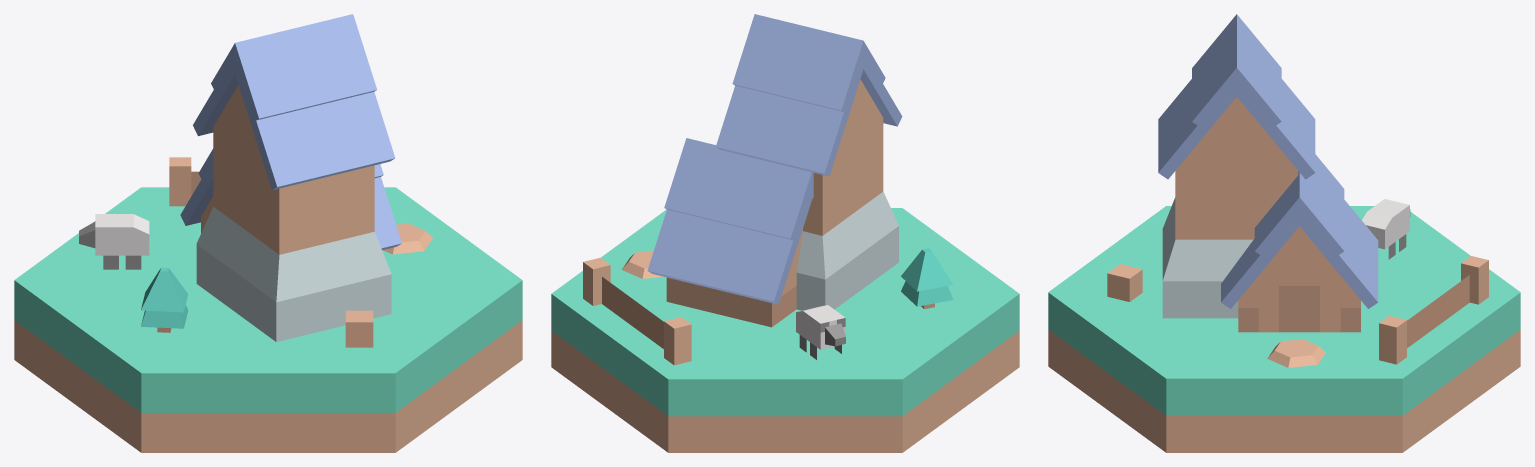
The model's file is building_stable2.fbx.
3 views of the same model, side by side, from view 1: azimuth 30°, elevation 25°; view 2: azimuth 150°, elevation 25°; view 3: azimuth 270°, elevation 25° (orthographic). The views are drawn at different scales.
Visible parts, largest first — view 1: building_mill.001, building, sheep, building.001, tree.003, fence, crate, path; view 2: building_mill.001, building, building.001, fence, tree.003, sheep, path; view 3: building_mill.001, building, building.001, fence, sheep, path, crate.
Part boxes in pixels (x1,y1,x2,y2): building_mill.001: (14, 187, 522, 452); building: (193, 14, 395, 341); sheep: (79, 214, 149, 269); building.001: (180, 148, 401, 250); tree.003: (141, 267, 188, 332); fence: (169, 157, 201, 206); crate: (345, 310, 373, 347); path: (383, 223, 432, 254); building_mill.001: (551, 208, 1019, 452); building: (716, 14, 902, 310); building.001: (647, 138, 813, 327); fence: (583, 257, 691, 365); tree.003: (901, 248, 953, 309); sheep: (796, 305, 845, 359); path: (622, 250, 662, 278); building_mill.001: (1048, 206, 1520, 452); building: (1158, 14, 1315, 318); building.001: (1221, 154, 1378, 332); fence: (1379, 256, 1488, 364); sheep: (1362, 199, 1410, 259); path: (1267, 339, 1325, 367); crate: (1107, 264, 1142, 301).
Bounding box in the file's own units: 11.55 × 8.78 × 10.
